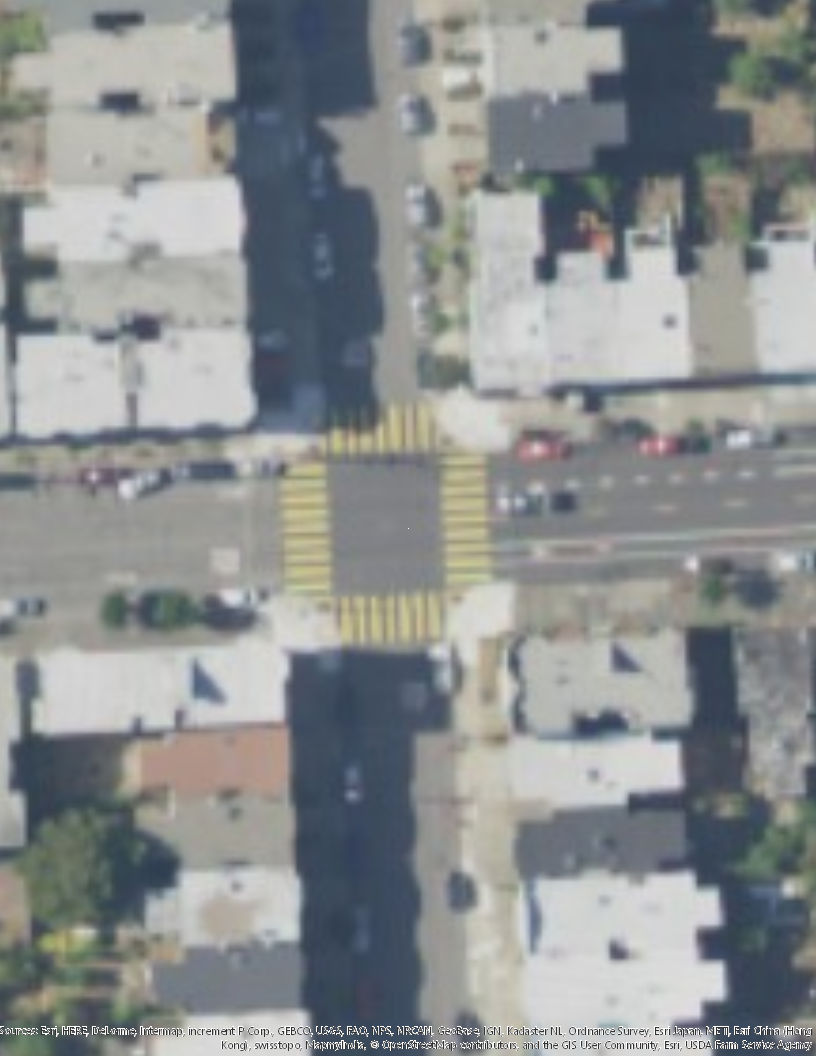zebracross: (275, 459, 337, 590), (436, 451, 491, 588), (330, 589, 445, 644), (321, 402, 436, 451)
